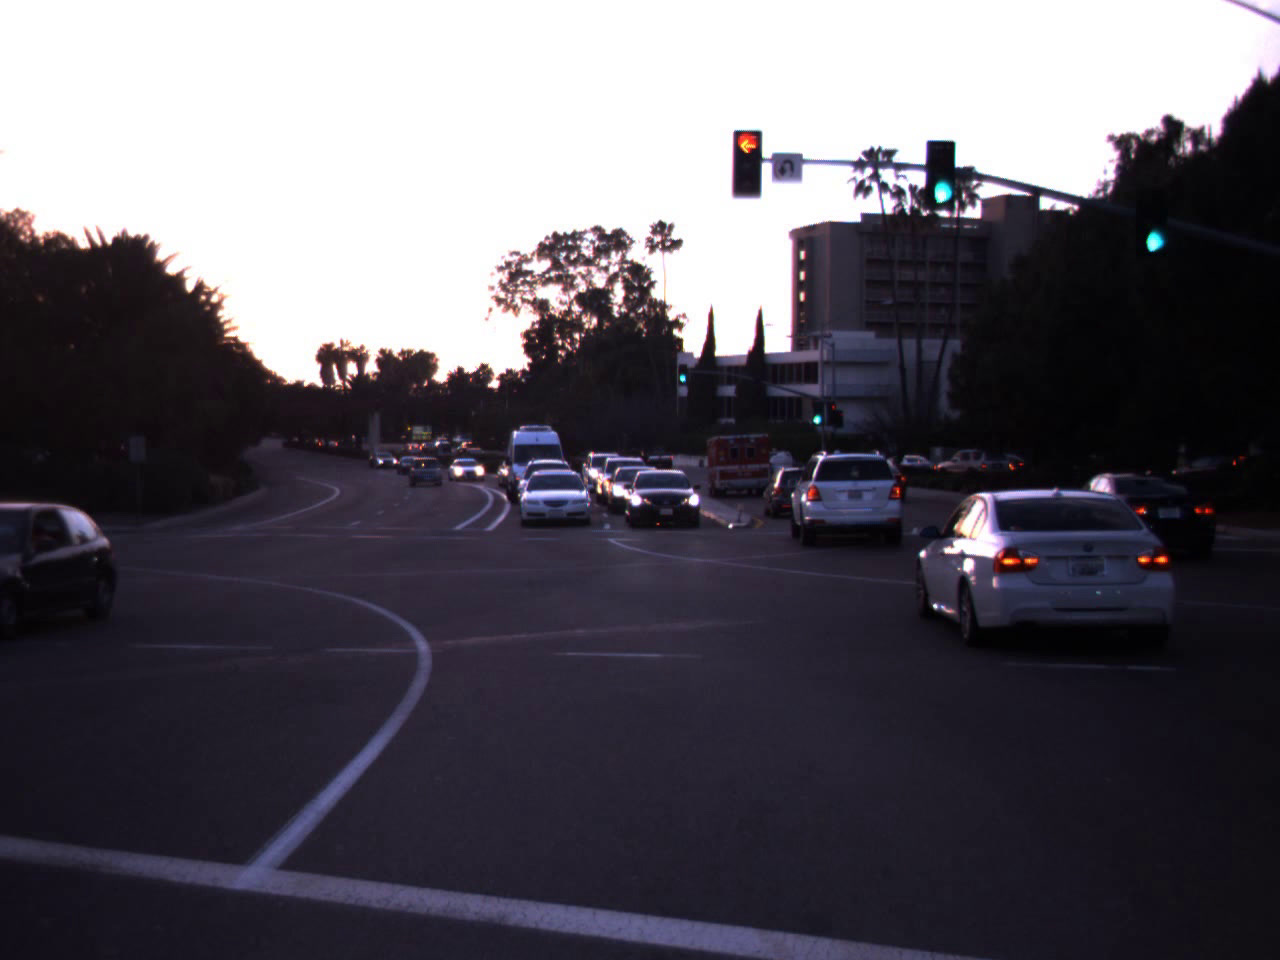go: (1123, 149, 1183, 264), (919, 120, 967, 210)
stop: (717, 127, 777, 212)
